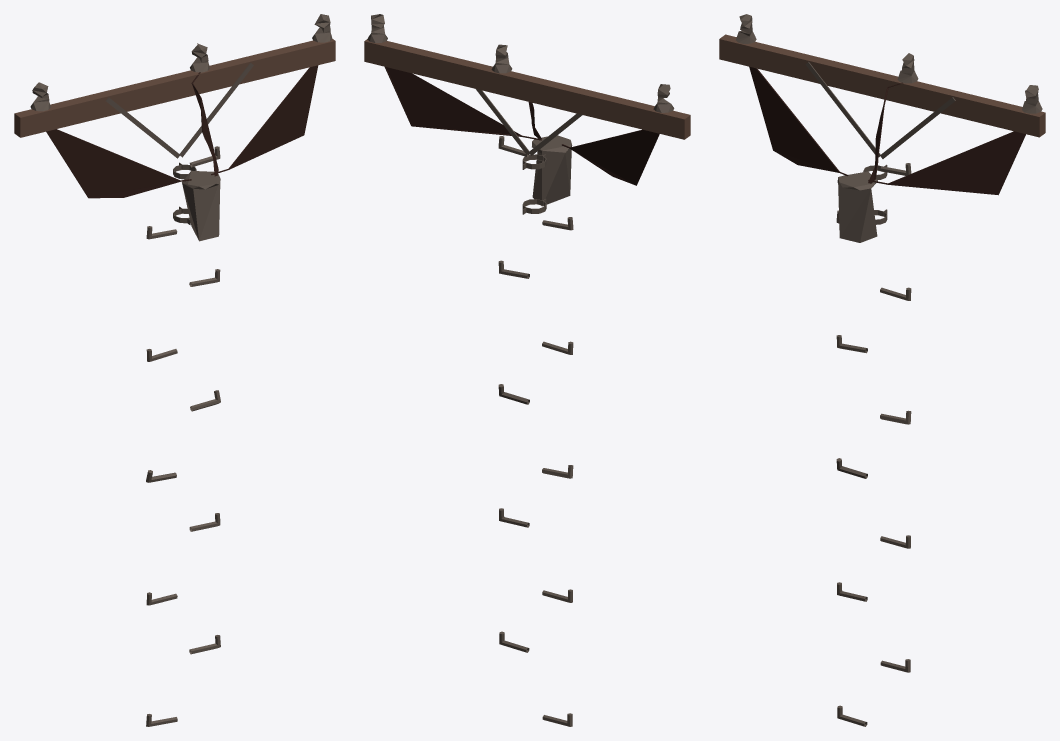
File: pole-transformer.lod2.glb
The picture shows the model from 3 angles, left to right: view 1: azimuth 30°, elevation 25°; view 2: azimuth 150°, elevation 25°; view 3: azimuth 330°, elevation 25°; orthographic projection.
Parts seen in each view (by area): view 1: pCylinder37_Metal_0; view 2: pCylinder37_Metal_0; view 3: pCylinder37_Metal_0.
Part boxes in pixels (x1=…): pCylinder37_Metal_0: x1=14, y1=14, x2=335, y2=726; pCylinder37_Metal_0: x1=364, y1=14, x2=690, y2=726; pCylinder37_Metal_0: x1=719, y1=14, x2=1045, y2=726.
Size of the model in its own units: 3.89 by 7.82 by 0.8477.
